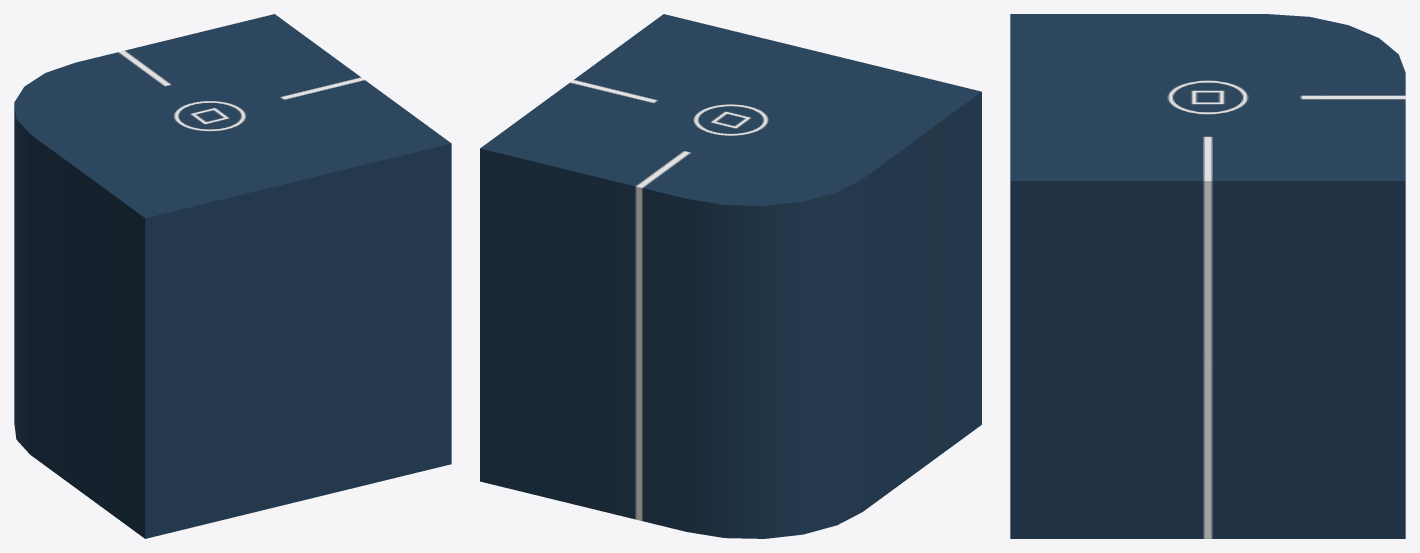
The model's file is TestTileBevel1 (2).fbx.
3 renders of one model, left to right at view 1: azimuth 30°, elevation 25°; view 2: azimuth 150°, elevation 25°; view 3: azimuth 270°, elevation 25°, orthographic. The views are drawn at different scales.
Parts seen in each view (by area): view 1: Cube.001; view 2: Cube.001; view 3: Cube.001.
Boxes of the visible parts, x1=… form: Cube.001: x1=14, y1=14, x2=451, y2=538; Cube.001: x1=480, y1=14, x2=981, y2=538; Cube.001: x1=1010, y1=14, x2=1405, y2=538.
Bounding box in the file's own units: 200 × 200 × 200.
